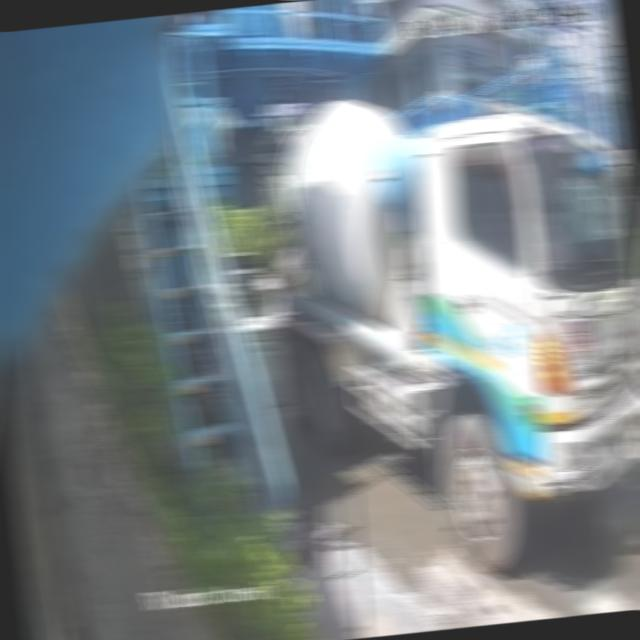cement_mixer_truck: (271, 99, 640, 567)
